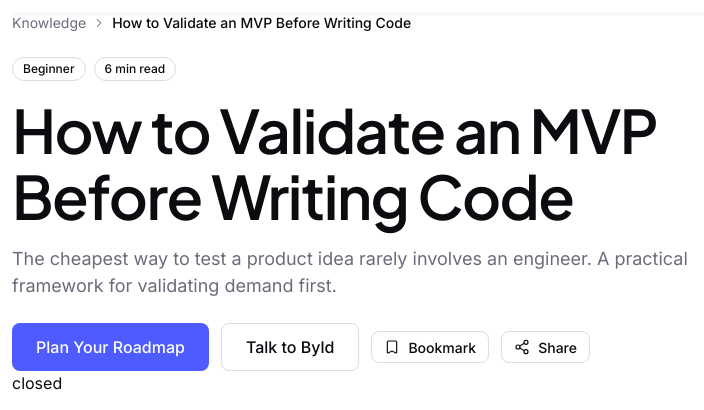
Test case: KnowledgeArticleHero › opens the AI companion from Talk to Byld
This screenshot has width=704, height=410.
Click the button "Talk to Byld": (290, 347) top-left (221, 323), bottom-right (359, 371)
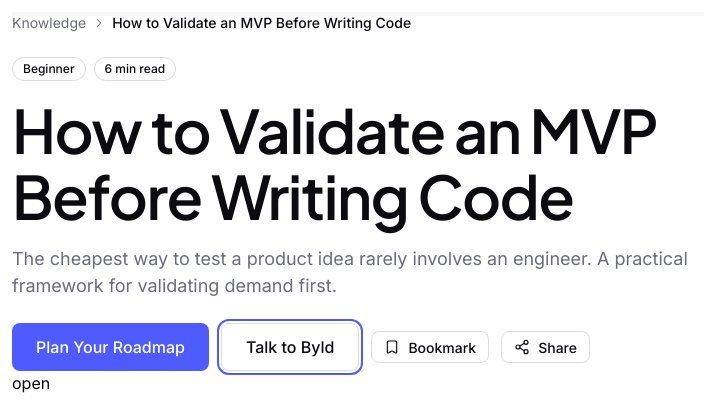
Expected: the text with test id "ai-open-state" reads "open", top-left (12, 373), bottom-right (50, 393)
